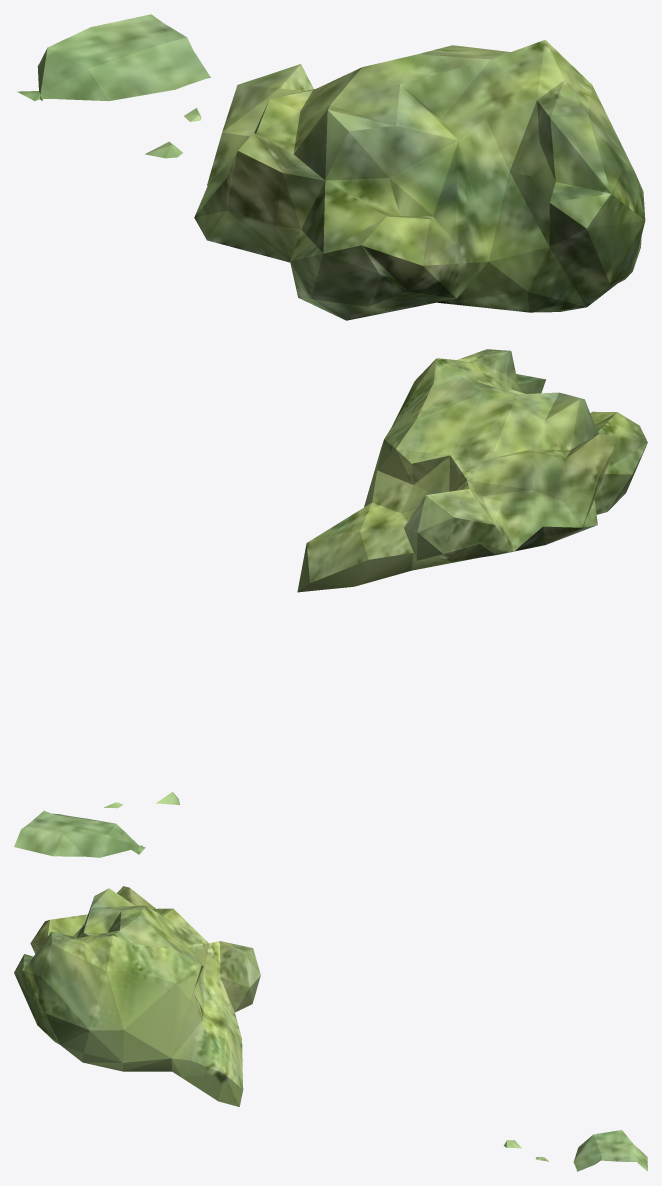
3 renders of one model, top to bottom at view 1: azimuth 30°, elevation 25°; view 2: azimuth 150°, elevation 25°; view 3: azimuth 270°, elevation 25°, orthographic. The views are drawn at different scales.
Bounding box in the file's own units: 7.73 × 7.08 × 19.86.
Materials: 1 (1 with a texture image).
